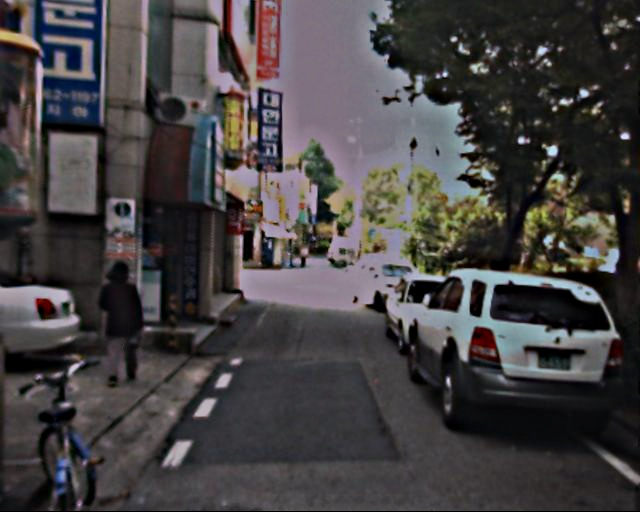person: (96, 254, 153, 384)
